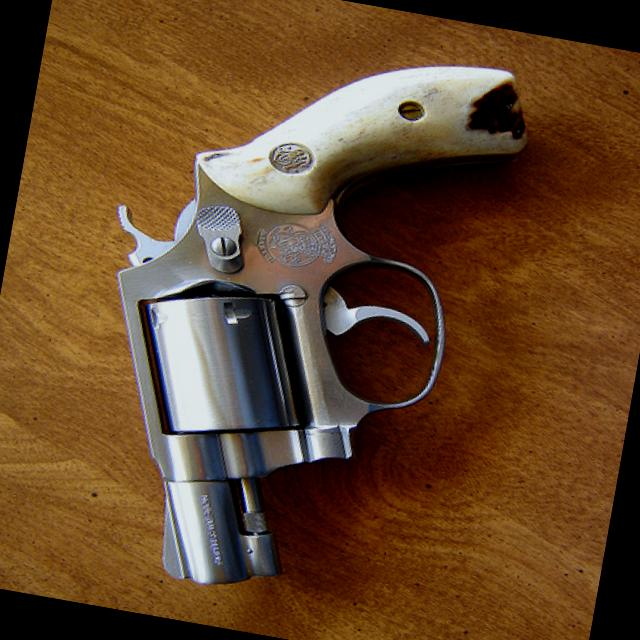handgun: (50, 8, 551, 630)
